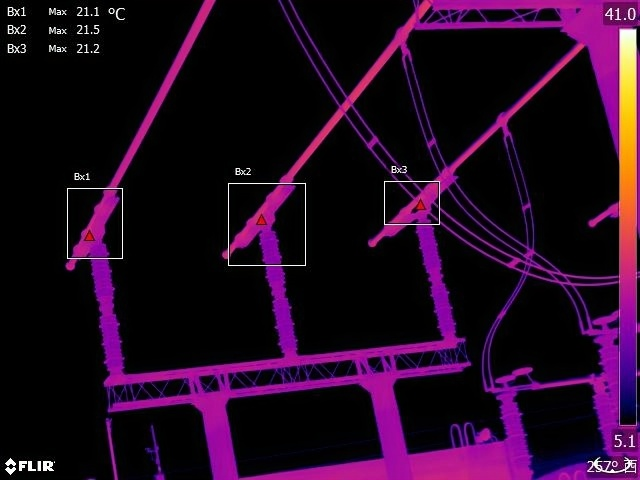clamp: (492, 101, 522, 150), (393, 20, 416, 57)
post insulator: (86, 244, 132, 370), (259, 229, 303, 355), (414, 212, 458, 337), (499, 394, 536, 480), (594, 392, 620, 453), (599, 341, 621, 412)
switch: (484, 368, 597, 399), (585, 309, 640, 342)
